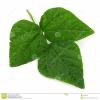Soyabean leaf: (36, 40, 85, 89), (39, 6, 95, 43), (9, 19, 47, 67)
